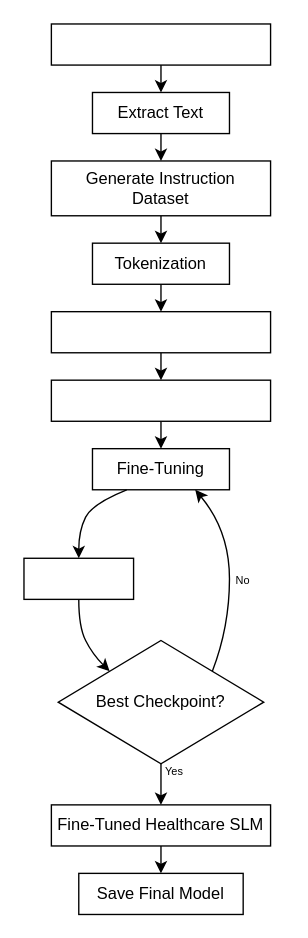
Image size: 308x938. Some labels were removed from this diagram. Here are the shapes that lost their labels. From the top down, the centre of each, then its label:
At point 160,44: "Healthcare Documents".
At point 160,331: "Pretrained Base Model".
At point 160,400: "LoRA Adapter Layers".
At point 78,578: "Validation".
